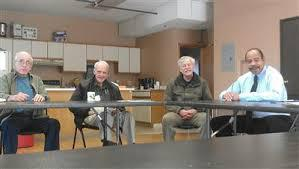Person: (69, 50, 147, 161), (219, 45, 293, 151), (1, 52, 64, 161), (158, 50, 217, 151)
